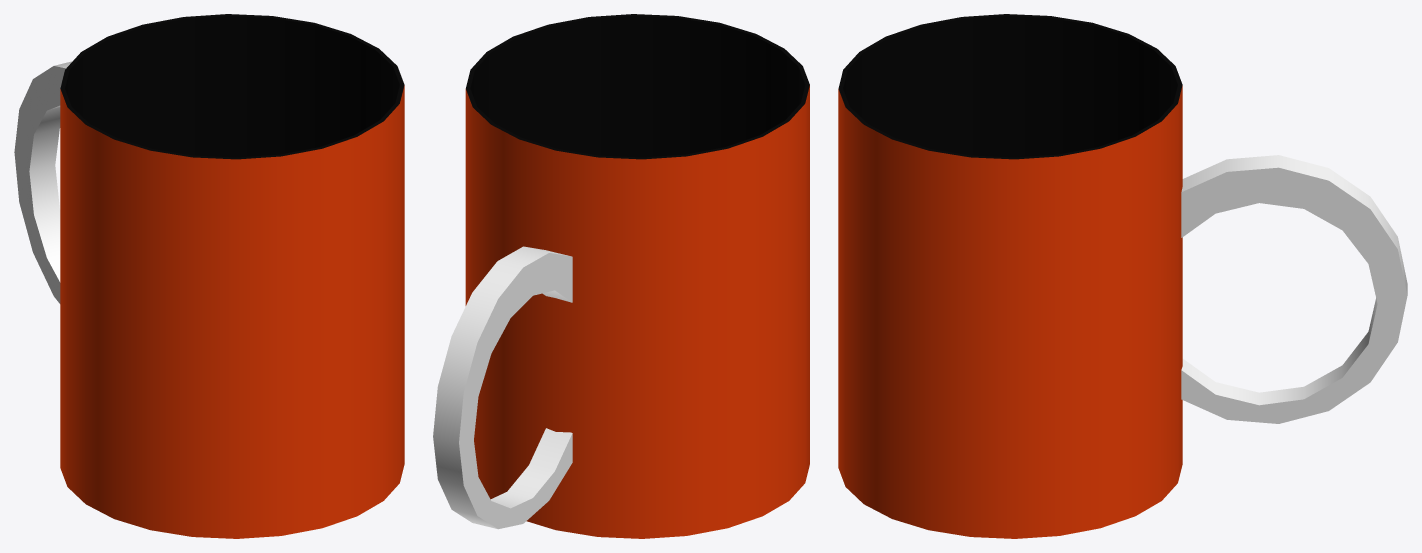
Rendered from mug_04_origin_gt_7.dae.
The picture shows the model from 3 angles, left to right: view 1: azimuth 30°, elevation 25°; view 2: azimuth 150°, elevation 25°; view 3: azimuth 270°, elevation 25°; orthographic projection.
Parts seen in each view (by area): view 1: Hollow_cylinder (×3), Mug_handle; view 2: Hollow_cylinder (×3), Mug_handle; view 3: Hollow_cylinder (×3), Mug_handle.
Boxes of the visible parts, x1,y1,x2,y2 form: Hollow_cylinder (×3): [60, 14, 404, 538]; Mug_handle: [14, 61, 72, 303]; Hollow_cylinder (×3): [465, 14, 809, 538]; Mug_handle: [433, 246, 572, 529]; Hollow_cylinder (×3): [838, 14, 1182, 538]; Mug_handle: [1181, 155, 1407, 423].
Size of the model in its own units: 3.6 by 5.94 by 4.38.
